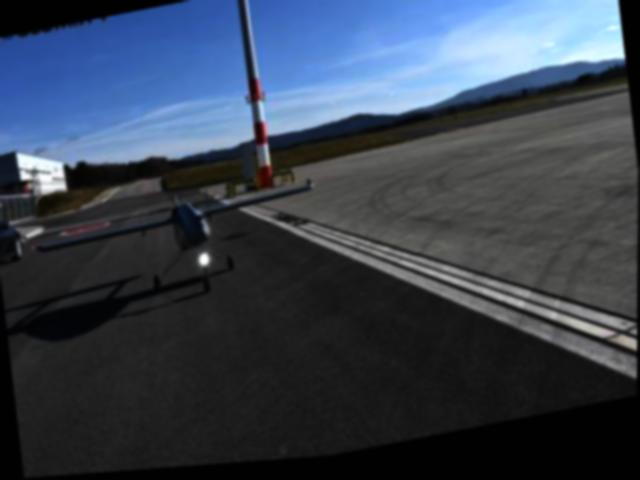uav: (29, 174, 322, 320)
